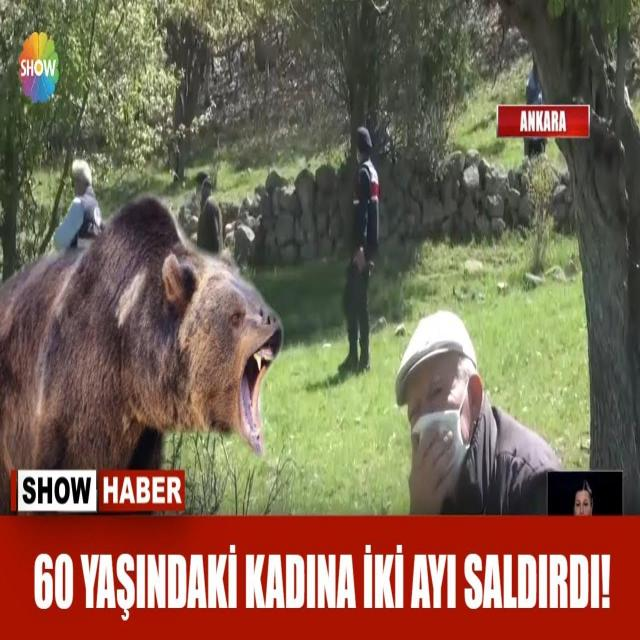Bear: (0, 197, 284, 476)
